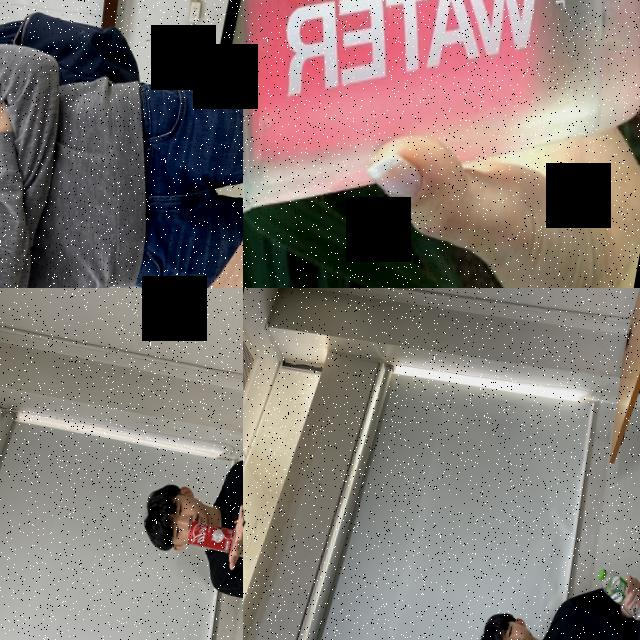bottle: (243, 0, 640, 288), (590, 565, 640, 622)
can: (184, 520, 237, 554)
